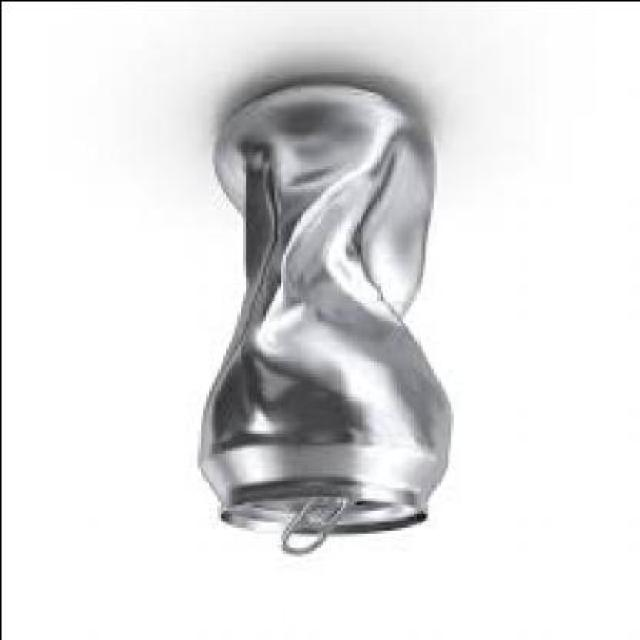metal: (198, 77, 452, 563)
